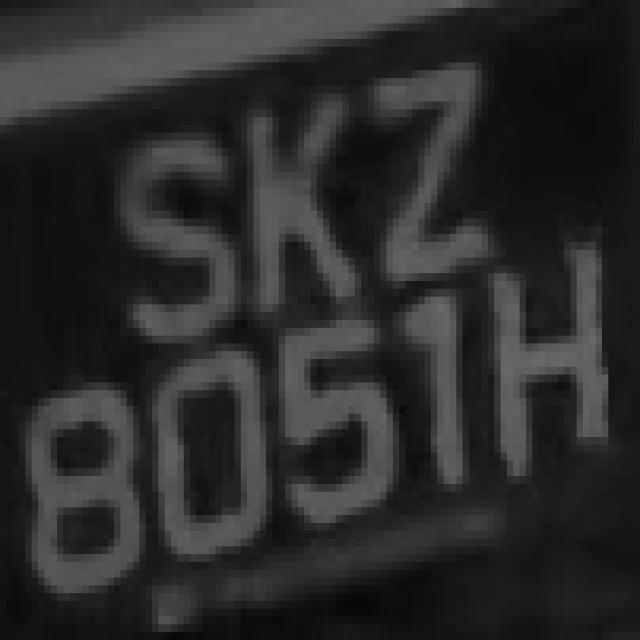0: (146, 312, 272, 570)
1: (412, 234, 488, 546)
5: (266, 288, 412, 538)
8: (13, 366, 139, 616)
H: (488, 234, 627, 484)
K: (209, 86, 380, 336)
S: (95, 102, 228, 336)
Z: (349, 31, 494, 281)
